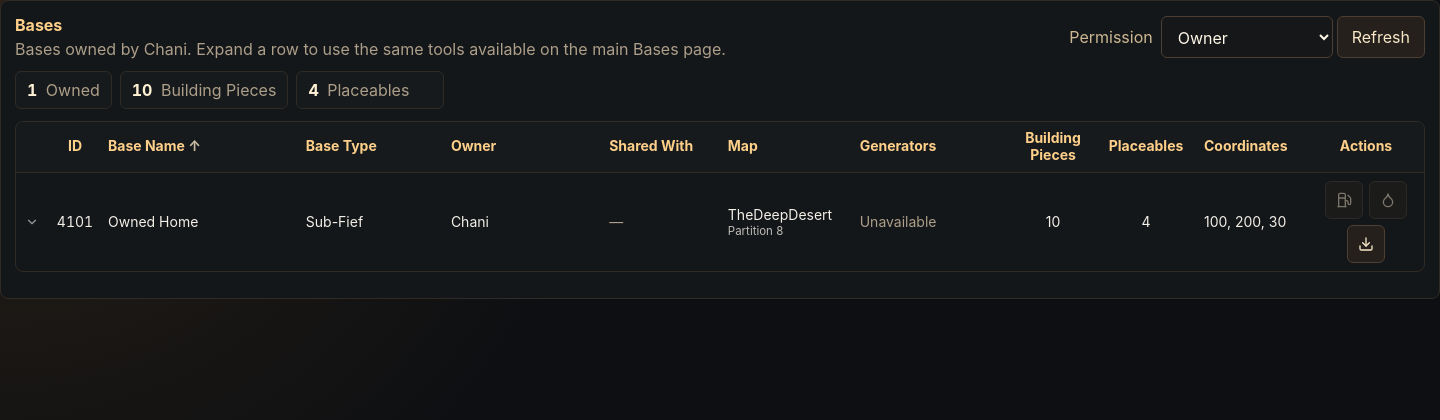
Scenario: BasesPanel player scope › does not bring back the previous level's rows when the new level fails to load
Expected: the text "Owned Home" is shown, [108,213,198,230]
Select "Co-owner" in the dropdown labelled "Permission": (1247, 37) [1161,16,1333,58]
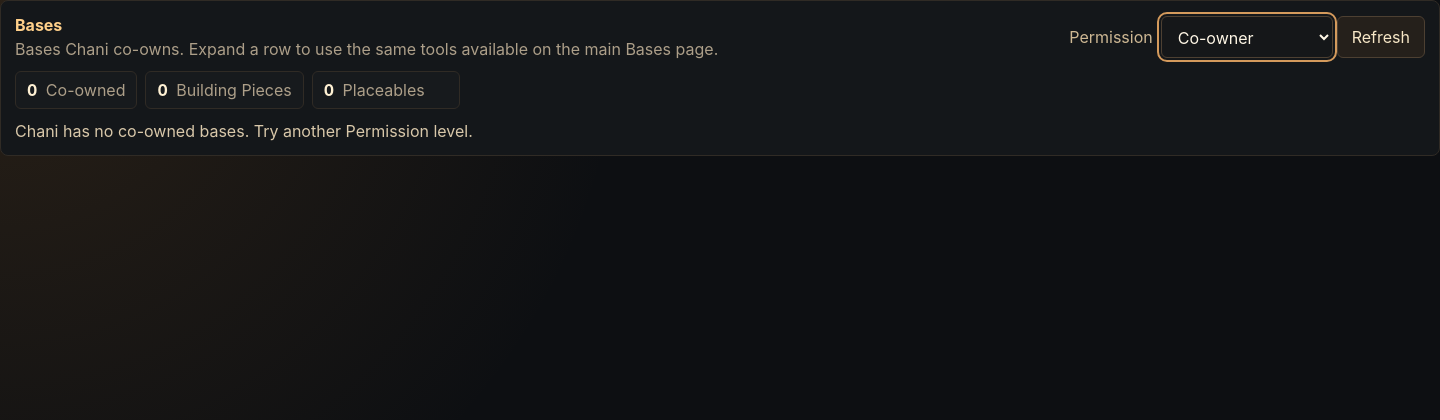
Now the text "Owned Home" is gone
Now the element named "Player base totals" shows "0 Co-owned", box [15,71,460,109]
Now the element named "Player base totals" shows "0 Placeables", box [15,71,460,109]
